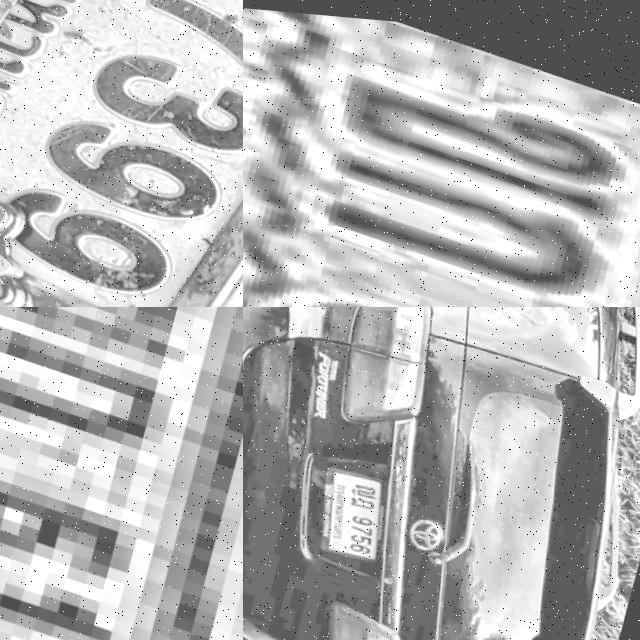license-plate: (243, 0, 640, 307), (0, 307, 243, 640), (0, 0, 243, 307), (321, 464, 382, 551)
